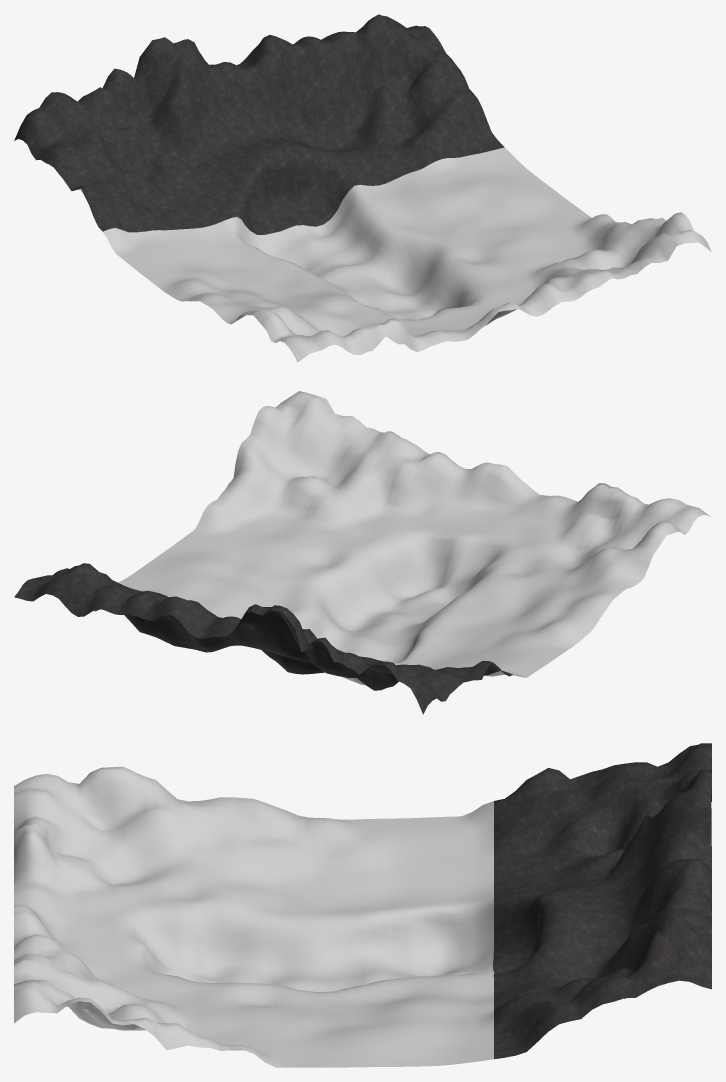
File: grounde.fbx
The picture shows the model from 3 angles, top to bottom: view 1: azimuth 30°, elevation 25°; view 2: azimuth 150°, elevation 25°; view 3: azimuth 270°, elevation 25°; orthographic projection. The views are drawn at different scales.
Parts seen in each view (by area): view 1: polySurface2; view 2: polySurface2; view 3: polySurface2.
Part boxes in pixels (bbox=[...]): polySurface2: bbox=[14, 14, 711, 362]; polySurface2: bbox=[14, 391, 711, 714]; polySurface2: bbox=[14, 743, 711, 1067].
Bounding box in the file's own units: 9269 × 3374 × 11000.
